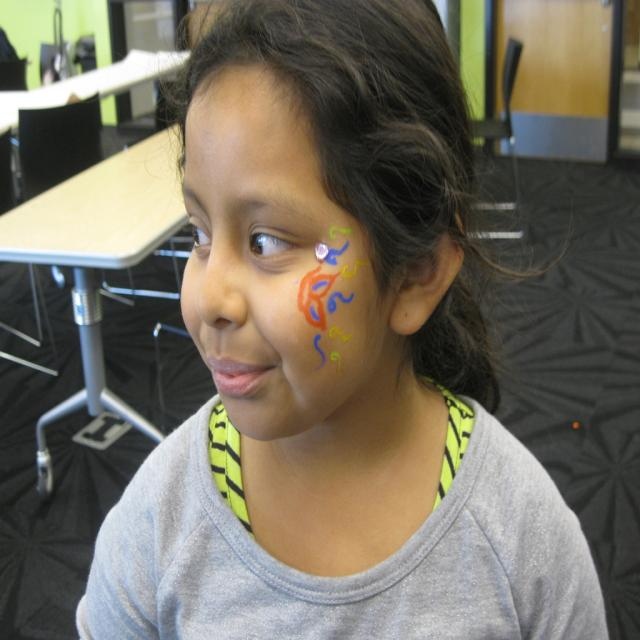no_helmet: (174, 72, 458, 235)
